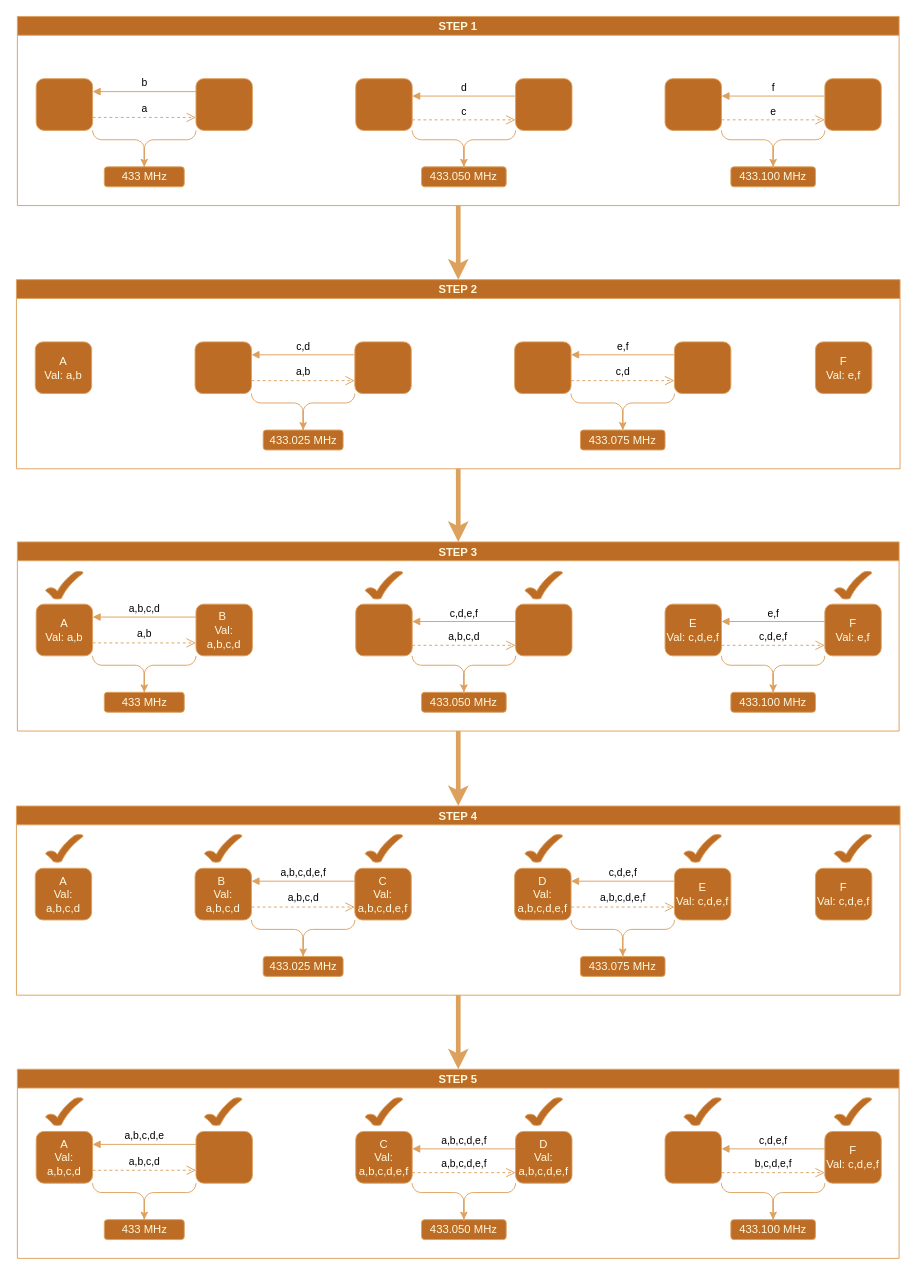
The diagram is 917 pixels wide and 1276 high, and some of its shapes have lost their labels. Here are the shapes that lost their labels. From the top down, the centre of each, then its label:
point (64, 104): A Val: a
point (223, 104): B Val: b
point (383, 104): C Val: c
point (543, 104): D Val: d
point (692, 104): E Val: e
point (852, 104): F Val: f
point (222, 367): B Val: a,b
point (382, 367): C Val: c,d
point (542, 367): D Val: c,d
point (702, 367): E Val: e,f
point (383, 629): C Val: a,b,c,d
point (543, 629): D Val: c,d,e,f
point (223, 1157): B Val: a,b,c,d,e
point (692, 1157): E Val: b,c,d,e,f
